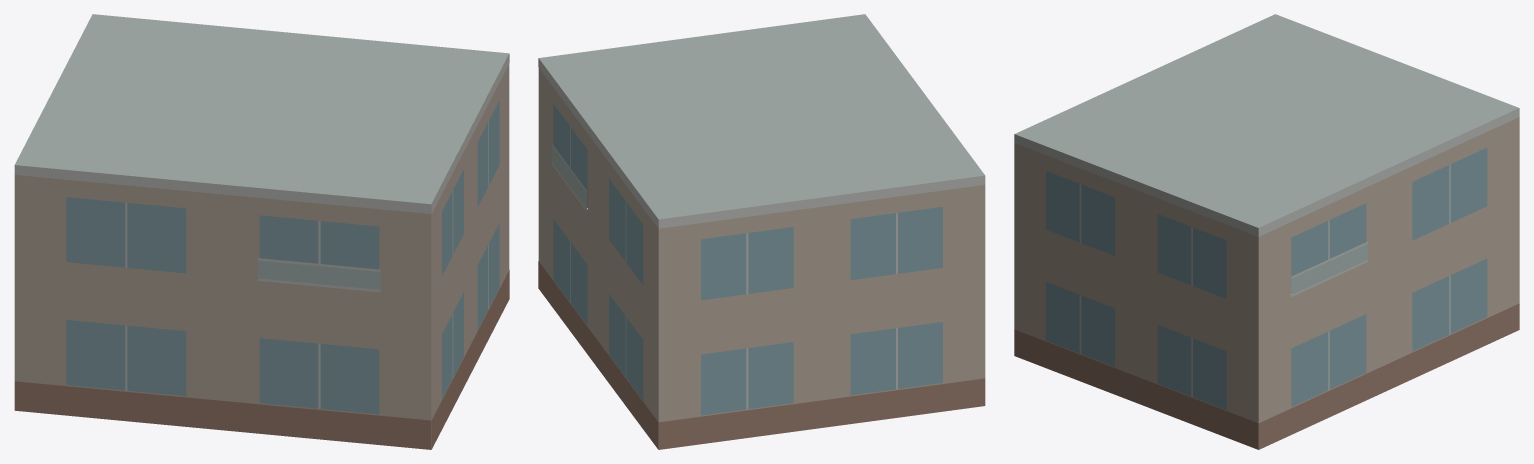
Rendered from survey-upis-32712529.glb.
3 views of the same model, side by side, from view 1: azimuth 30°, elevation 25°; view 2: azimuth 150°, elevation 25°; view 3: azimuth 270°, elevation 25° (orthographic). The views are drawn at different scales.
Visible parts, largest first — view 1: survey-upis-32712529.tmp; view 2: survey-upis-32712529.tmp; view 3: survey-upis-32712529.tmp.
Boxes of the visible parts, x1,y1,x2,y2 form: survey-upis-32712529.tmp: (14,14,509,449); survey-upis-32712529.tmp: (538,14,985,449); survey-upis-32712529.tmp: (1014,14,1519,449).
Size of the model in its own units: 12.63 by 6.1 by 12.6.
